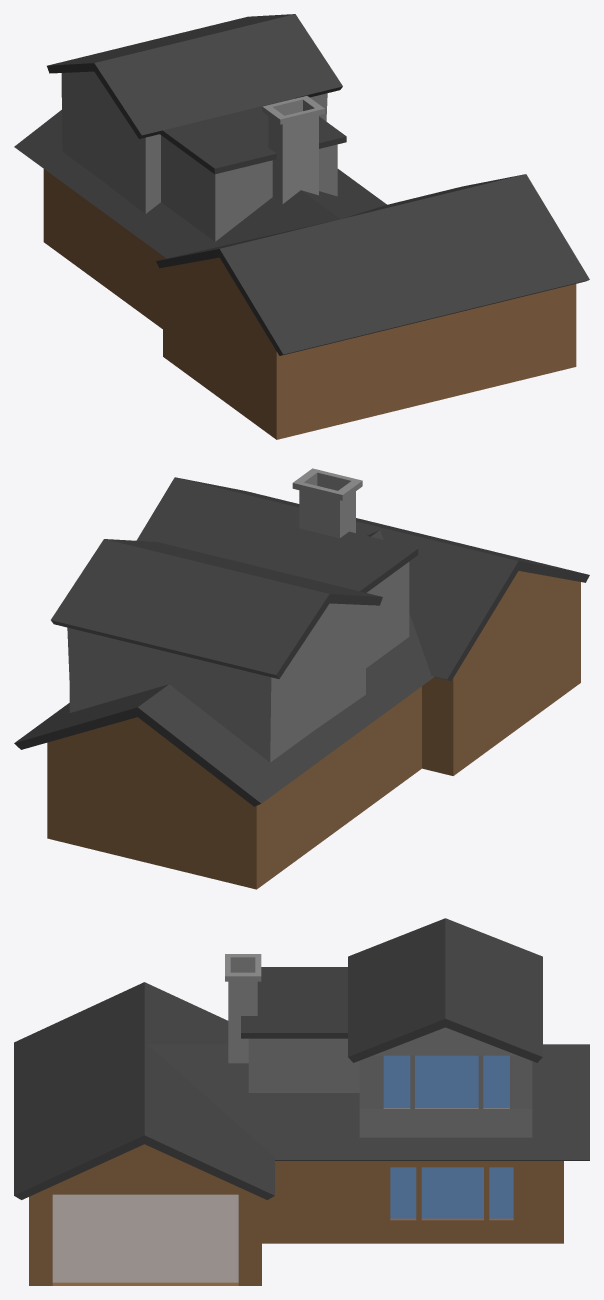
The model's file is House2.glb.
The picture shows the model from 3 angles, top to bottom: view 1: azimuth 30°, elevation 25°; view 2: azimuth 150°, elevation 25°; view 3: azimuth 270°, elevation 25°; orthographic projection. The views are drawn at different scales.
Visible parts, largest first — view 1: Roof, Cube.034, Roof.001, Roof.002, Cube, Cube.030, Cube.033, Cube.031; view 2: Cube, Roof.001, Cube.030, Cube.034, Roof, Roof.002, Cube.031, Cube.033; view 3: Roof, Roof.001, Roof.002, Cube, Garage, Cube.034, Cube.030, Window.001, Window.002, Cube.033, Cube.031.
Part boxes in pixels (left/top/right/bottom): Roof: left=156, top=174, right=589, bottom=355; Cube.034: left=163, top=257, right=576, bottom=439; Roof.001: left=47, top=14, right=346, bottom=174; Roof.002: left=14, top=110, right=386, bottom=258; Cube: left=43, top=169, right=165, bottom=328; Cube.030: left=61, top=71, right=327, bottom=213; Cube.033: left=161, top=135, right=337, bottom=241; Cube.031: left=262, top=96, right=324, bottom=203; Cube: left=47, top=686, right=421, bottom=889; Roof.001: left=51, top=512, right=418, bottom=678; Cube.030: left=67, top=603, right=365, bottom=762; Cube.034: left=422, top=571, right=580, bottom=775; Roof: left=136, top=477, right=589, bottom=681; Roof.002: left=14, top=530, right=434, bottom=806; Cube.031: left=292, top=468, right=362, bottom=538; Cube.033: left=366, top=562, right=409, bottom=667; Roof: left=14, top=982, right=274, bottom=1199; Roof.001: left=241, top=918, right=542, bottom=1062; Roof.002: left=147, top=1044, right=589, bottom=1160; Cube: left=262, top=1161, right=563, bottom=1243; Garage: left=52, top=1194, right=238, bottom=1282; Cube.034: left=29, top=1144, right=261, bottom=1285; Cube.030: left=359, top=1027, right=532, bottom=1137; Window.001: left=383, top=1055, right=509, bottom=1107; Window.002: left=390, top=1167, right=513, bottom=1218; Cube.033: left=248, top=1038, right=359, bottom=1092; Cube.031: left=225, top=954, right=261, bottom=1063.
Size of the model in its own units: 6.59 by 4.65 by 10.47.
